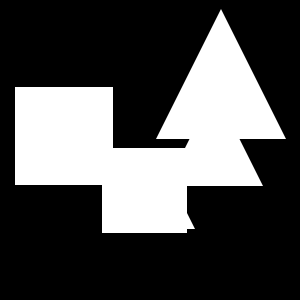circle: (15, 87, 113, 185), (102, 148, 187, 233)
triangle: (156, 9, 286, 139), (166, 89, 263, 186), (125, 159, 195, 229)
